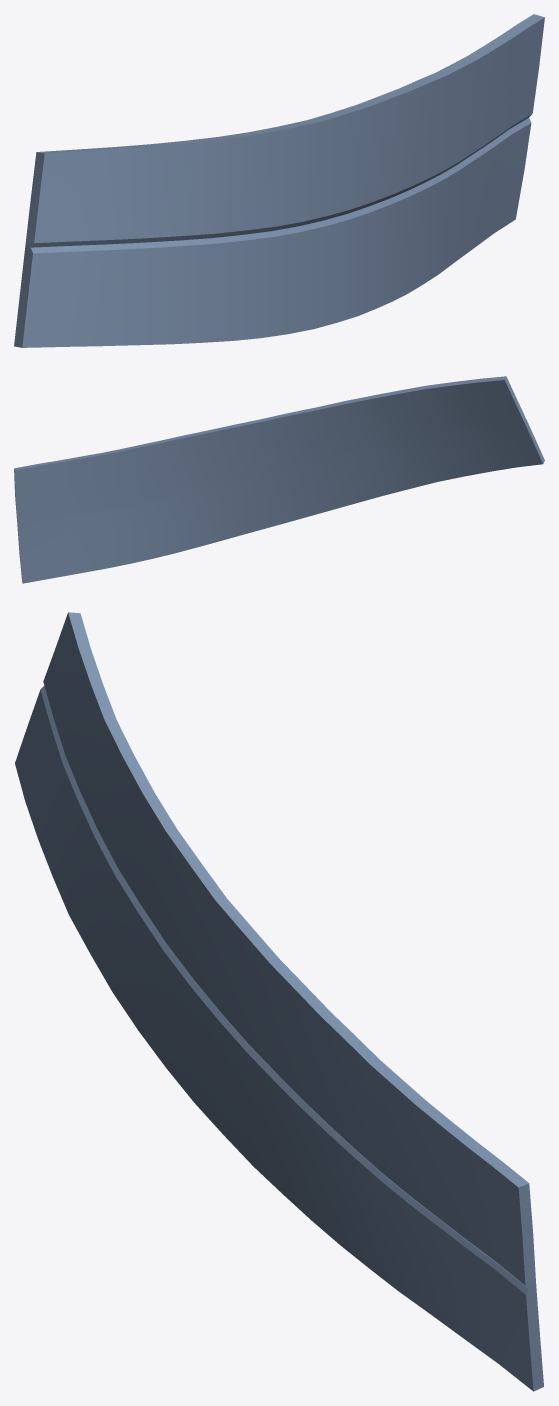
File: SM_CarlosSA_Jacket_ChestPockets_Slanted.fbx
3 views of the same model, one above another, from view 1: azimuth 30°, elevation 25°; view 2: azimuth 150°, elevation 25°; view 3: azimuth 270°, elevation 25° (orthographic). The views are drawn at different scales.
Visible parts, largest first — view 1: SM_CarlosSA_Jacket_ChestPockets_Slanted; view 2: SM_CarlosSA_Jacket_ChestPockets_Slanted; view 3: SM_CarlosSA_Jacket_ChestPockets_Slanted.
Part boxes in pixels (x1=…): SM_CarlosSA_Jacket_ChestPockets_Slanted: x1=14, y1=14, x2=544, y2=347; SM_CarlosSA_Jacket_ChestPockets_Slanted: x1=14, y1=376, x2=544, y2=583; SM_CarlosSA_Jacket_ChestPockets_Slanted: x1=15, y1=612, x2=543, y2=1391.
Size of the model in its own units: 0.086 by 0.0425 by 0.0485.
